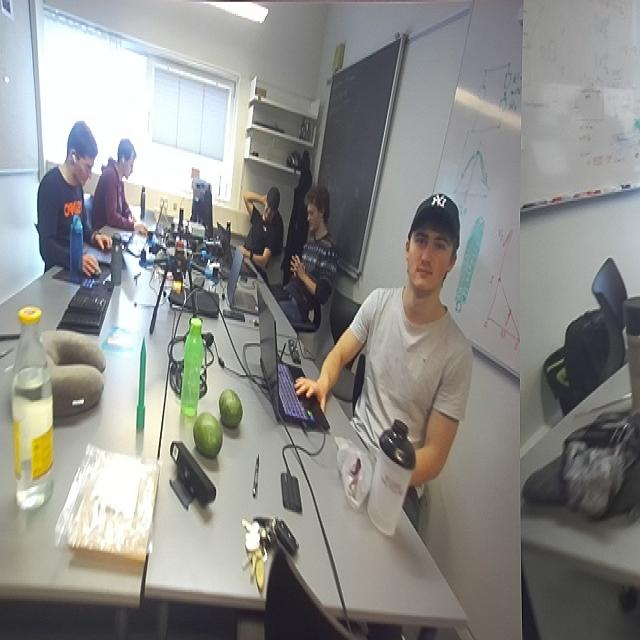probe: (134, 339, 146, 431)
